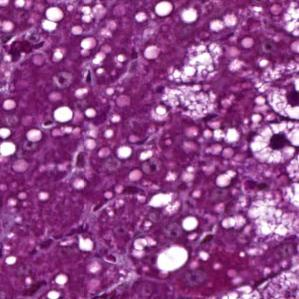ballooning: (247, 117, 297, 169), (264, 71, 296, 122)
